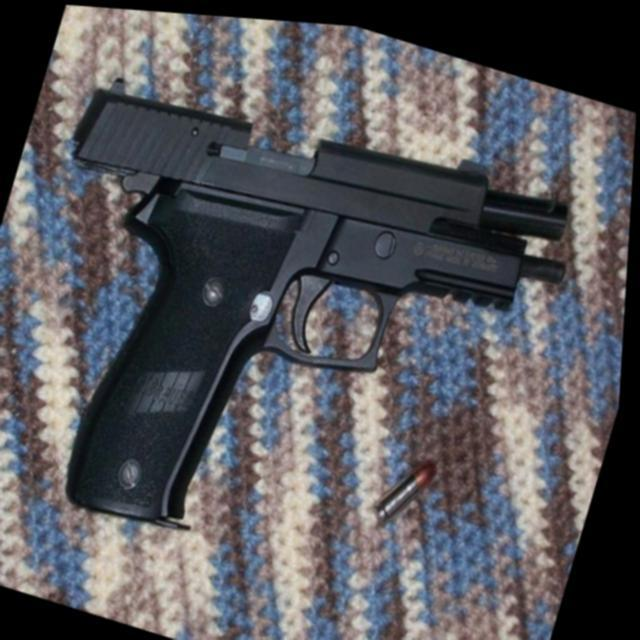weapon: (0, 40, 594, 621)
